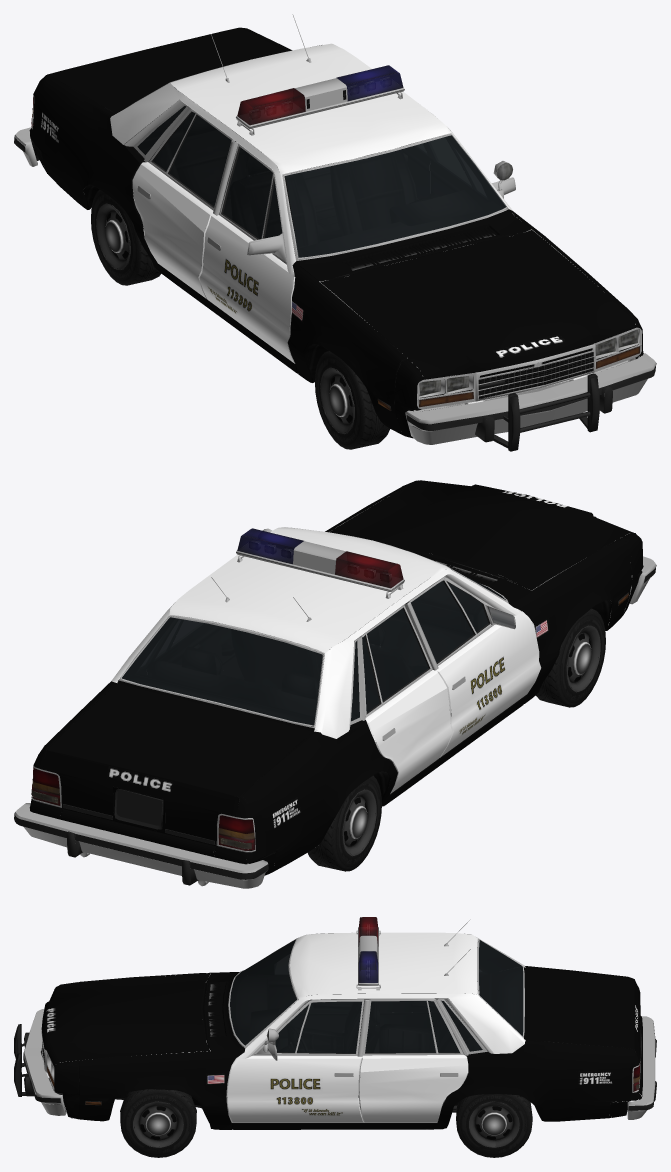
Rendered from police.glb.
The picture shows the model from 3 angles, top to bottom: view 1: azimuth 30°, elevation 25°; view 2: azimuth 150°, elevation 25°; view 3: azimuth 270°, elevation 25°; orthographic projection. The views are drawn at different scales.
Parts seen in each view (by area): view 1: police; view 2: police; view 3: police.
Part boxes in pixels (x1,y1,x2,y2): police: (14, 14, 656, 451); police: (14, 480, 656, 888); police: (14, 917, 656, 1157).
Size of the model in its own units: 1.83 by 1.57 by 5.08.
6 materials, 6 textured.
